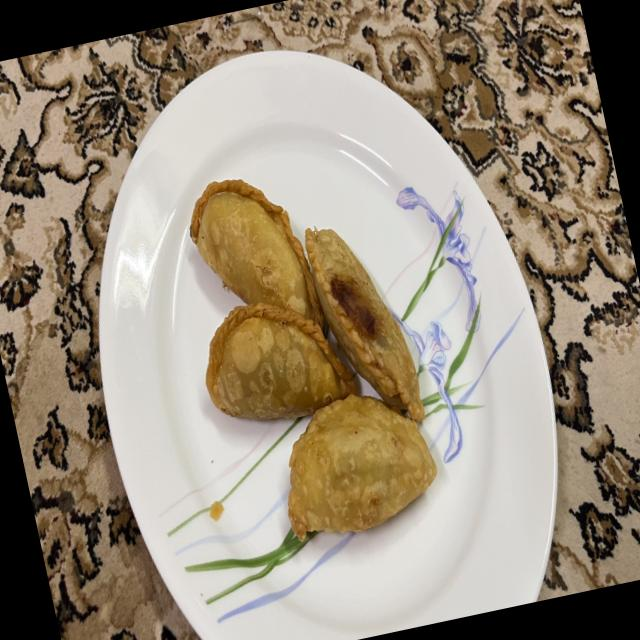karipap: (305, 227, 424, 421), (287, 394, 437, 540), (189, 178, 324, 327), (205, 303, 356, 420)
